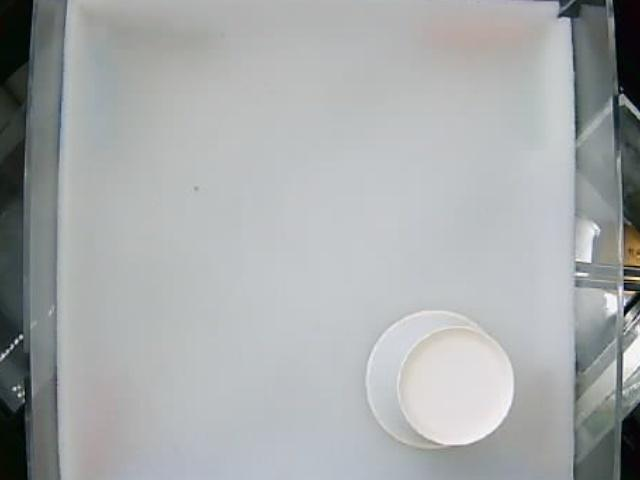Cup: (362, 309, 517, 450)
